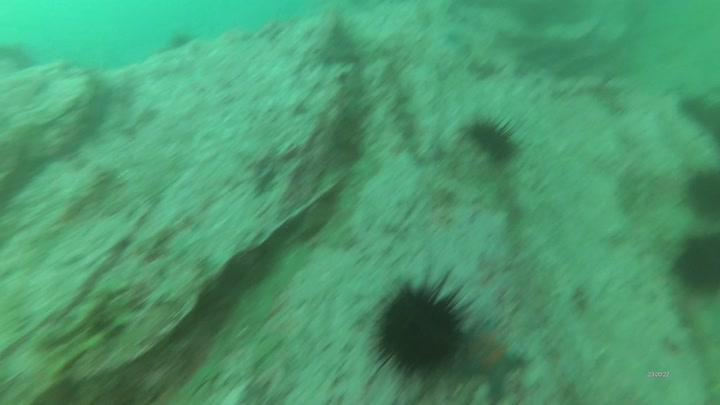urchin: (364, 270, 470, 384), (665, 229, 720, 288), (469, 115, 523, 164), (683, 163, 720, 215)
